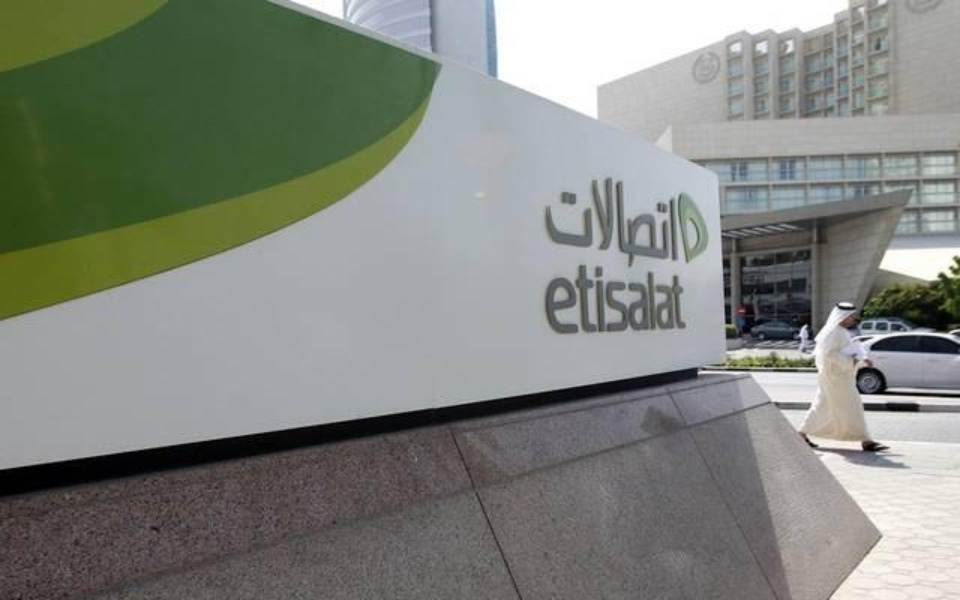text: (561, 166, 576, 272), (577, 166, 592, 272), (593, 166, 608, 272), (609, 166, 624, 272), (625, 166, 640, 272), (641, 166, 656, 272), (657, 166, 672, 272), (547, 166, 560, 272), (545, 259, 560, 337), (561, 259, 576, 337), (577, 259, 592, 337), (593, 259, 608, 337), (609, 259, 624, 337), (625, 259, 640, 337), (641, 259, 656, 337), (657, 259, 672, 337), (673, 259, 688, 337), (673, 166, 682, 272), (542, 259, 544, 337), (689, 259, 691, 337)
